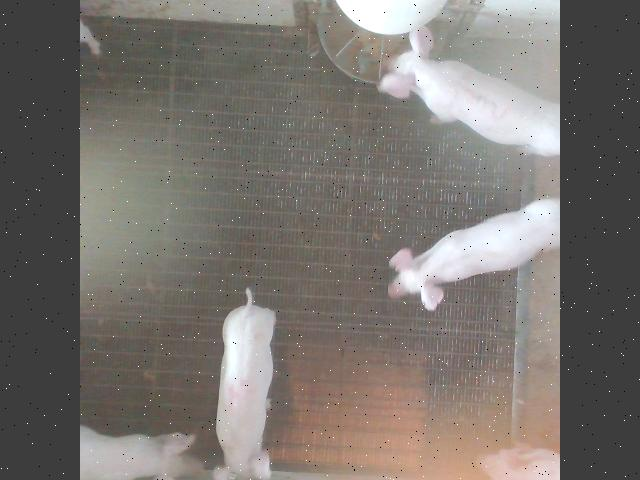pig-3: (379, 25, 558, 155)
pig-4: (214, 288, 274, 480)
